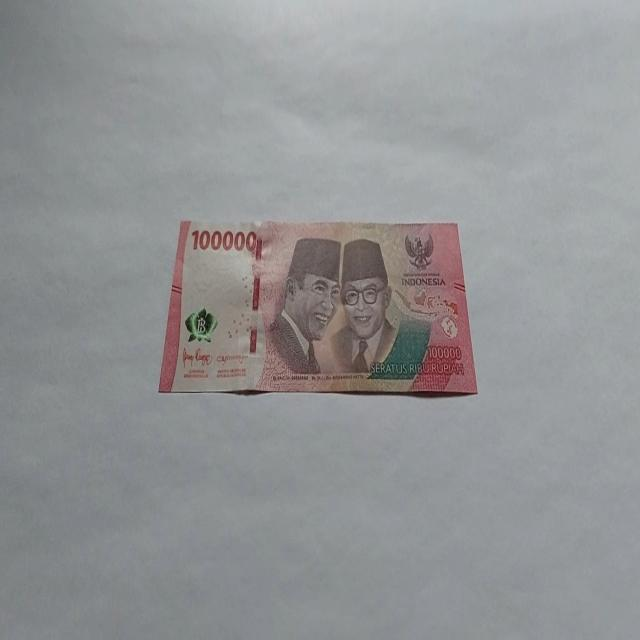seratus ribu rupiah: (158, 216, 478, 396)
